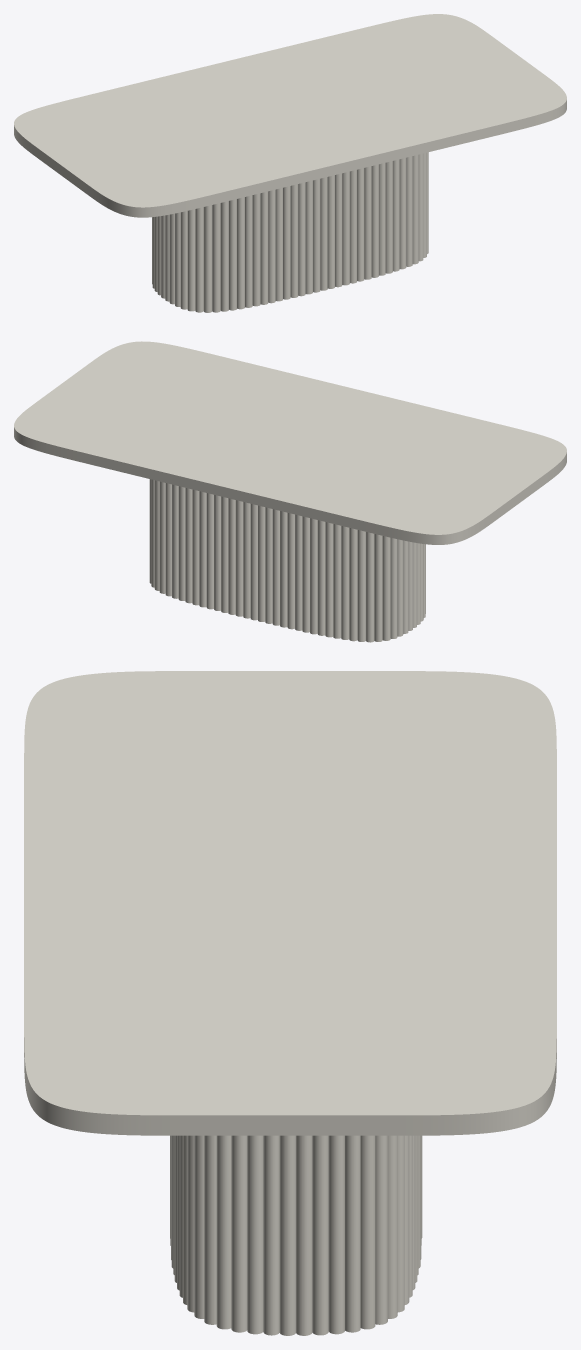
The model's file is pale_softrecta_standard_newtable.glb.
3 renders of one model, top to bottom at view 1: azimuth 30°, elevation 25°; view 2: azimuth 150°, elevation 25°; view 3: azimuth 270°, elevation 25°, orthographic. The views are drawn at different scales.
Visible parts, largest first — view 1: standard_softrecta, newtable; view 2: standard_softrecta, newtable; view 3: standard_softrecta, newtable.
Boxes of the visible parts, bbox=[...] form: standard_softrecta: bbox=[14, 14, 566, 217]; newtable: bbox=[152, 152, 428, 312]; standard_softrecta: bbox=[14, 341, 566, 544]; newtable: bbox=[149, 479, 425, 642]; standard_softrecta: bbox=[24, 671, 556, 1135]; newtable: bbox=[170, 1135, 422, 1335].
Bounding box in the file's own units: 7.5 × 2.5 × 3.8.
2 materials, 2 textured.
